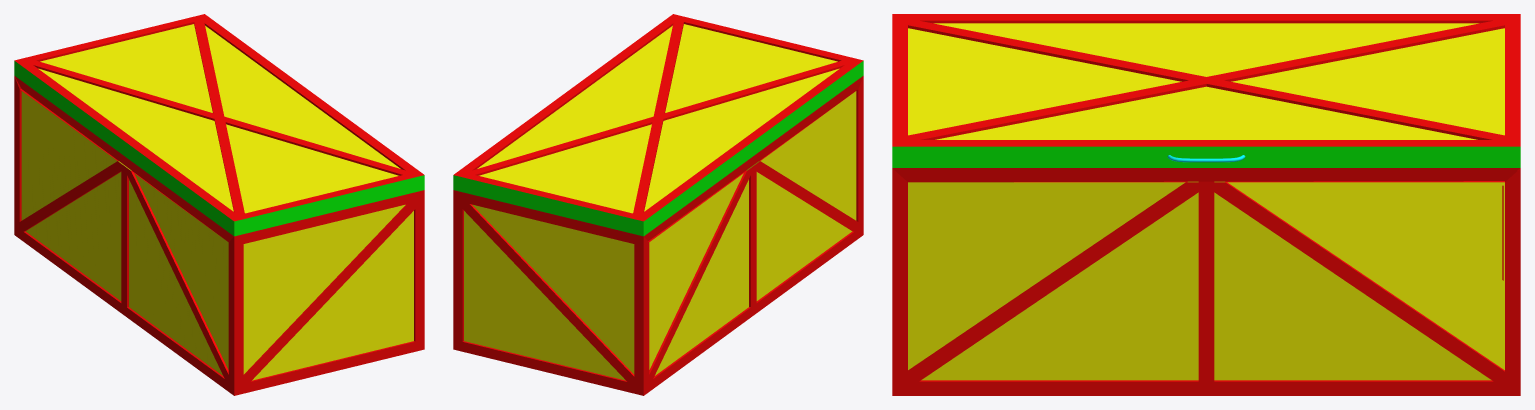
File: Chest.fbx
The picture shows the model from 3 angles, left to right: view 1: azimuth 30°, elevation 25°; view 2: azimuth 150°, elevation 25°; view 3: azimuth 270°, elevation 25°; orthographic projection. The views are drawn at different scales.
Visible parts, largest first — view 1: Cube; view 2: Cube; view 3: Cube.
Boxes of the visible parts, x1=… form: Cube: x1=14, y1=14, x2=424, y2=395; Cube: x1=453, y1=14, x2=863, y2=395; Cube: x1=892, y1=14, x2=1520, y2=395.
Bounding box in the file's own units: 207 × 175 × 400.
